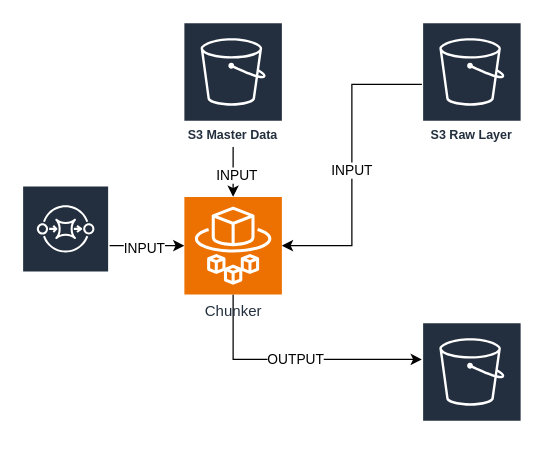
The diagram is 544 pixels wide and 469 high, and some of its shapes have lost their labels. The shapes that lost their labels are listed below. From the top down, each one's centre as x and y in pixels, then its label:
point (65, 245): SQS Queue
point (471, 384): Chunked Text
